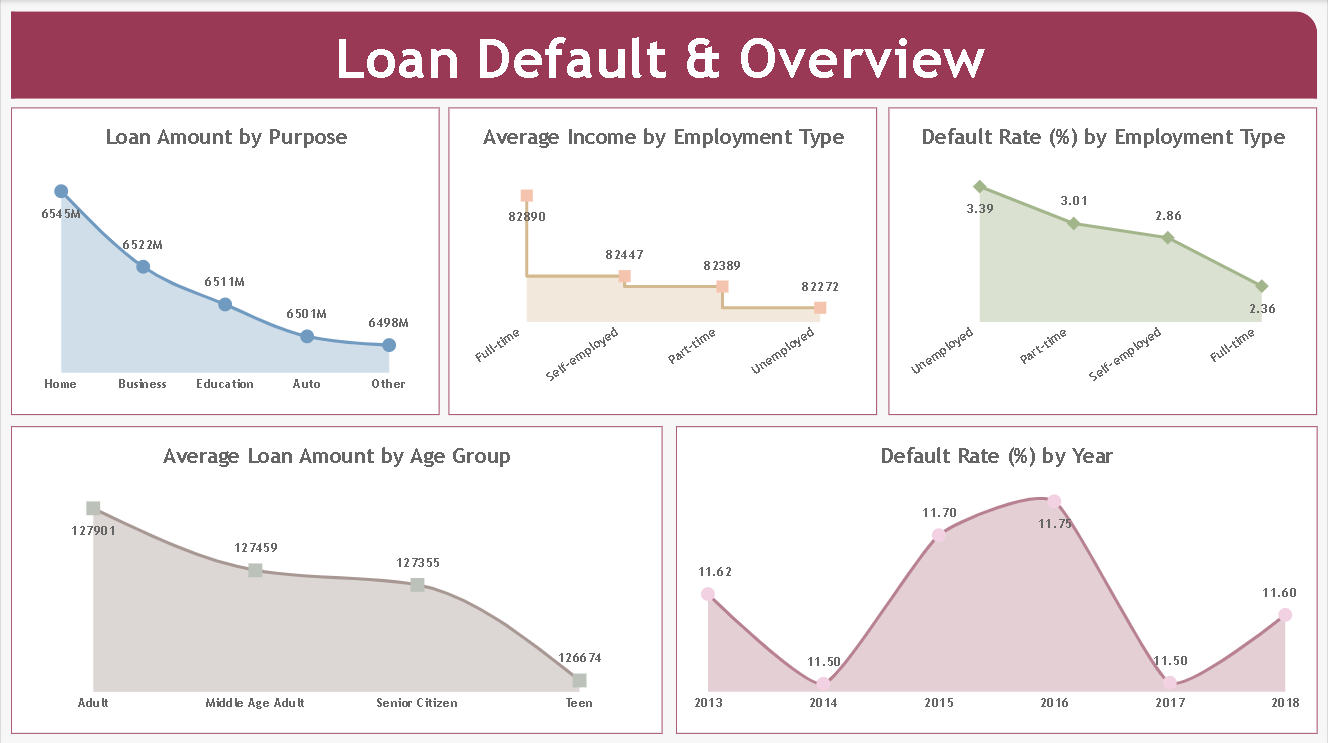

What the dashboard file says about the page in this screenshot:
{"tool":"powerbi","page":{"name":"Loan Default & Overview","canvas":[1280,720],"ordinal":0},"visuals":[{"type":"shape","box":[9.7,10.9,1260.7,84.5],"z":0},{"type":"lineChart","title":"Loan Amount by Purpose","fields":{"Category":["Loan_default.LoanPurpose"],"Y":["Measures Table1.Loan Amount by Purpose"]},"box":[9.7,103.8,413.8,296.8],"z":1000},{"type":"lineChart","title":"Average Income by Employment Type","fields":{"Category":["Loan_default.EmploymentType"],"Y":["Measures Table1.Average Income by Employment Type"]},"box":[431.9,103.8,413.8,296.8],"z":2000},{"type":"lineChart","title":"Default Rate (%) by Employment Type","fields":{"Category":["Loan_default.EmploymentType"],"Y":["Measures Table1.Default Rate by Employment Type"]},"box":[856.6,103.8,413.8,296.8],"z":3000},{"type":"lineChart","title":"Average Loan Amount by Age Group","fields":{"Category":["Loan_default.Age Group"],"Y":["Measures Table1.Average Loan Amount by Age Group"]},"box":[10,411.4,628.6,297.1],"z":4000},{"type":"lineChart","title":"Default Rate (%) by Year","fields":{"Category":["Loan_default.Year"],"Y":["Measures Table1.Default Rate by Year"]},"box":[651.4,411.2,619.2,297.1],"z":5000}]}

Visuals, with their boxes in screenshot pixels (x1, y1, x2, y2), scaled from the page's 1280x720 canvas onto the 1328x743 screenshot:
shape: (x1=10, y1=11, x2=1318, y2=98)
"Loan Amount by Purpose" lineChart: (x1=10, y1=107, x2=439, y2=413)
"Average Income by Employment Type" lineChart: (x1=448, y1=107, x2=877, y2=413)
"Default Rate (%) by Employment Type" lineChart: (x1=889, y1=107, x2=1318, y2=413)
"Average Loan Amount by Age Group" lineChart: (x1=10, y1=425, x2=663, y2=731)
"Default Rate (%) by Year" lineChart: (x1=676, y1=424, x2=1318, y2=731)
